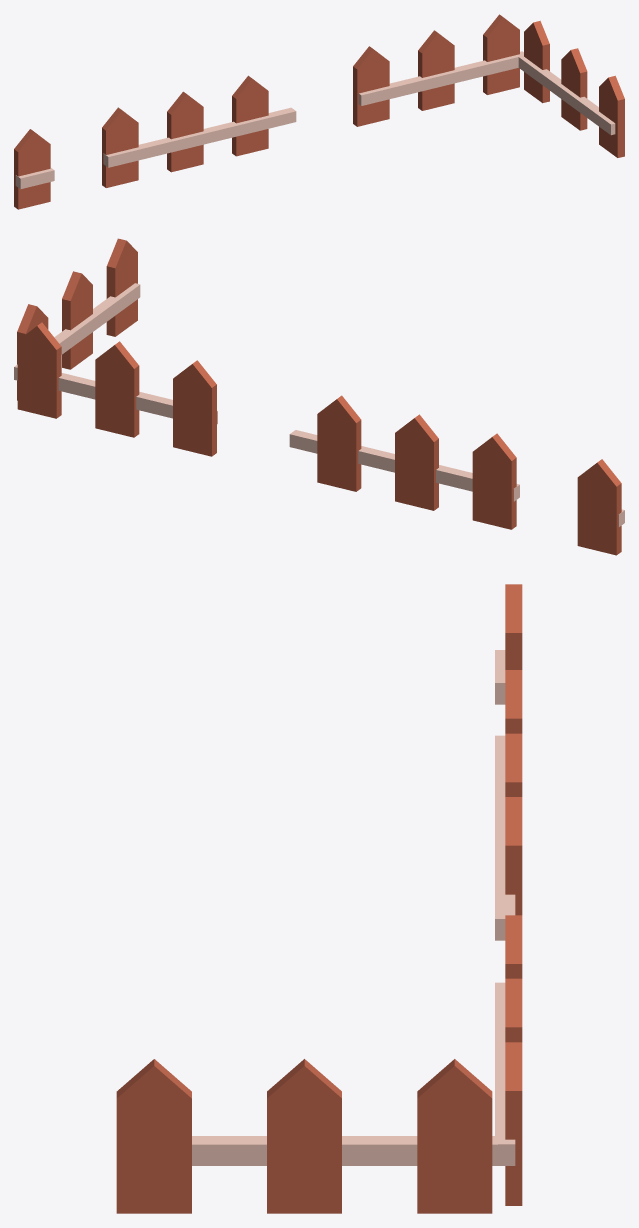
The model's file is fence.fbx.
3 renders of one model, top to bottom at view 1: azimuth 30°, elevation 25°; view 2: azimuth 150°, elevation 25°; view 3: azimuth 270°, elevation 25°, orthographic. The views are drawn at different scales.
Visible parts, largest first — view 1: House_3Rooms_Pink.002, House_3Rooms_Pink.003, House_3Rooms_Pink.004; view 2: House_3Rooms_Pink.002, House_3Rooms_Pink.003, House_3Rooms_Pink.004; view 3: House_3Rooms_Pink.002, House_3Rooms_Pink.003, House_3Rooms_Pink.004.
Boxes of the visible parts, x1,y1,x2,y2 form: House_3Rooms_Pink.002: [353, 14, 624, 157]; House_3Rooms_Pink.003: [102, 75, 296, 187]; House_3Rooms_Pink.004: [14, 129, 54, 209]; House_3Rooms_Pink.002: [14, 238, 217, 456]; House_3Rooms_Pink.003: [289, 395, 519, 529]; House_3Rooms_Pink.004: [577, 459, 624, 555]; House_3Rooms_Pink.002: [116, 915, 522, 1213]; House_3Rooms_Pink.003: [495, 670, 522, 940]; House_3Rooms_Pink.004: [495, 584, 522, 704].
Bounding box in the file's own units: 707 × 97.86 × 243.
